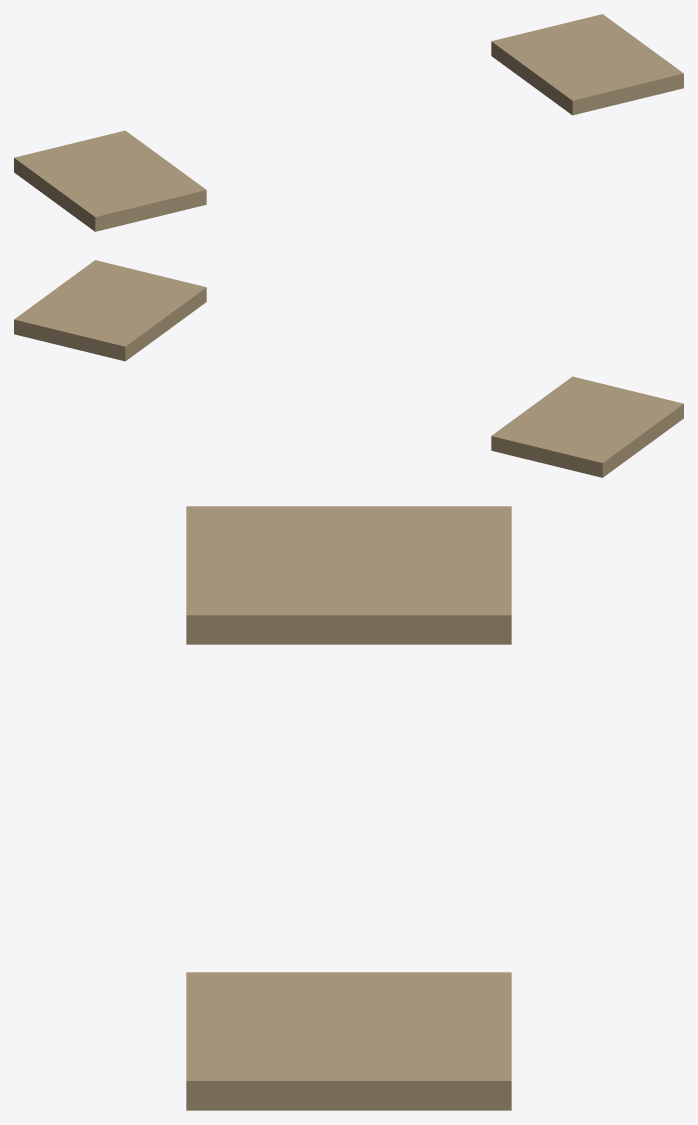
Rendered from stair_landings_floor_01.glb.
3 views of the same model, one above another, from view 1: azimuth 30°, elevation 25°; view 2: azimuth 150°, elevation 25°; view 3: azimuth 270°, elevation 25° (orthographic). The views are drawn at different scales.
Parts seen in each view (by area): view 1: forge-landing-connection_022-fe-f1-regular, forge-landing-connection_024-fe-f1-spiral; view 2: forge-landing-connection_022-fe-f1-regular, forge-landing-connection_024-fe-f1-spiral; view 3: forge-landing-connection_022-fe-f1-regular, forge-landing-connection_024-fe-f1-spiral.
Part boxes in pixels (x1,y1,x2,y2): forge-landing-connection_022-fe-f1-regular: [14, 130, 206, 231]; forge-landing-connection_024-fe-f1-spiral: [491, 14, 683, 115]; forge-landing-connection_022-fe-f1-regular: [491, 376, 683, 477]; forge-landing-connection_024-fe-f1-spiral: [14, 260, 206, 361]; forge-landing-connection_022-fe-f1-regular: [186, 506, 511, 644]; forge-landing-connection_024-fe-f1-spiral: [186, 972, 511, 1110].
Bounding box in the file's own units: 5.02 × 0.12 × 1.2.
